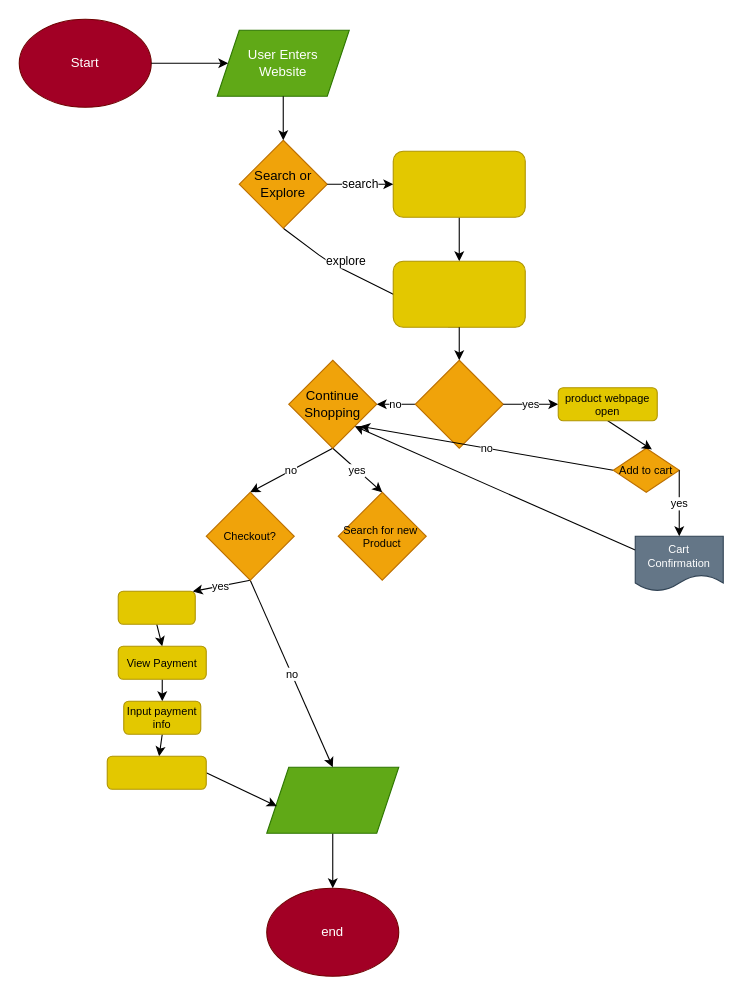
Image size: 743x996. Some labels were removed from this diagram. The shapes that lost their labels are listed below. From the top down, each one's centre as x and y in pixels, then its label:
At point (458, 183): "User provide search input".
At point (458, 293): "User looks over product".
At point (458, 403): "View Specific Product".
At point (156, 607): "View Cart".
At point (156, 772): "Order Confirmation and email".
At point (332, 799): "Leave Website".
